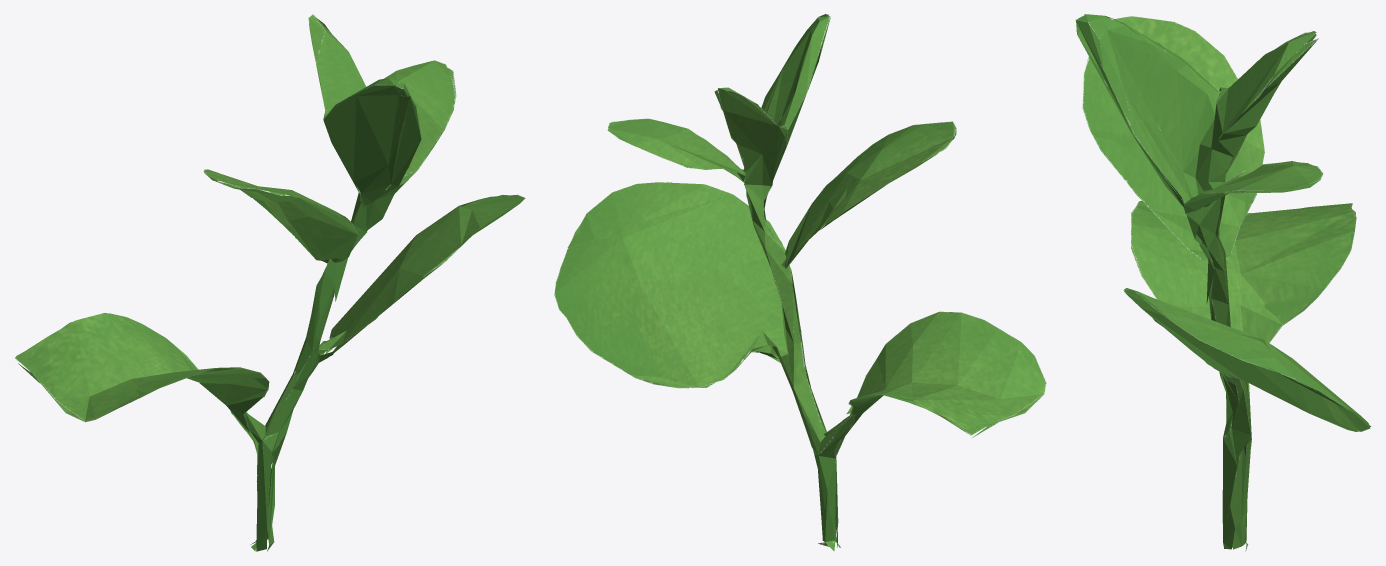
File: Plant_3.glb
3 renders of one model, left to right at view 1: azimuth 30°, elevation 25°; view 2: azimuth 150°, elevation 25°; view 3: azimuth 270°, elevation 25°, orthographic. The views are drawn at different scales.
Visible parts, largest first — view 1: plantphase2; view 2: plantphase2; view 3: plantphase2.
Boxes of the visible parts, x1,y1,x2,y2 form: plantphase2: [15, 14, 525, 551]; plantphase2: [554, 14, 1046, 551]; plantphase2: [1075, 14, 1371, 551].
Bounding box in the file's own units: 0.0457 × 0.0475 × 0.0221.
1 material, 1 textured.
